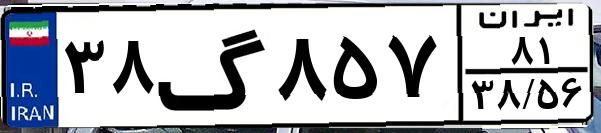1: (537, 27, 568, 80)
3: (57, 26, 110, 100), (470, 70, 495, 125)
5: (330, 28, 385, 110), (535, 70, 560, 125)
6: (560, 70, 590, 125)
7: (385, 28, 445, 110)
8: (270, 28, 330, 110), (110, 28, 156, 98), (508, 27, 537, 80), (495, 70, 520, 125)
گ: (156, 12, 270, 120)
